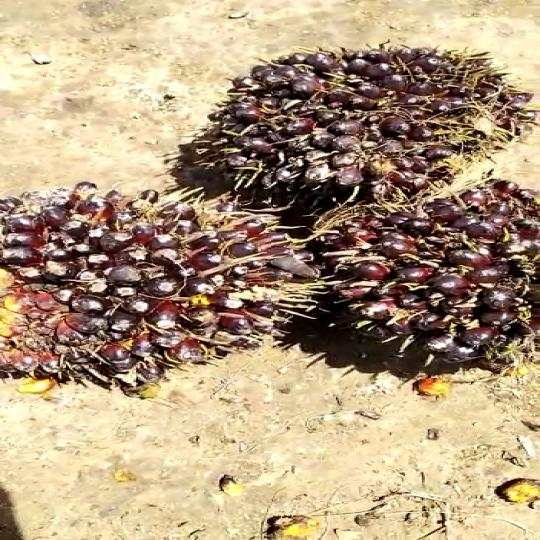mentah: (0, 160, 322, 408), (173, 38, 540, 205), (291, 172, 540, 374)
